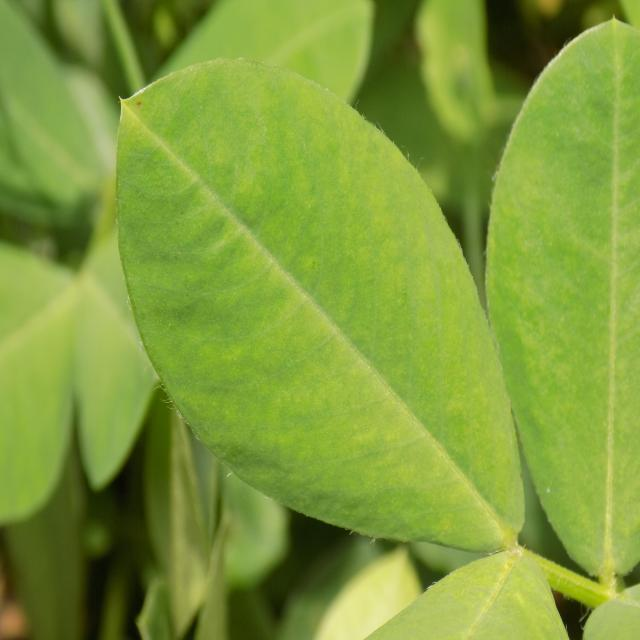Ground nut_healthy: (116, 55, 529, 552)
